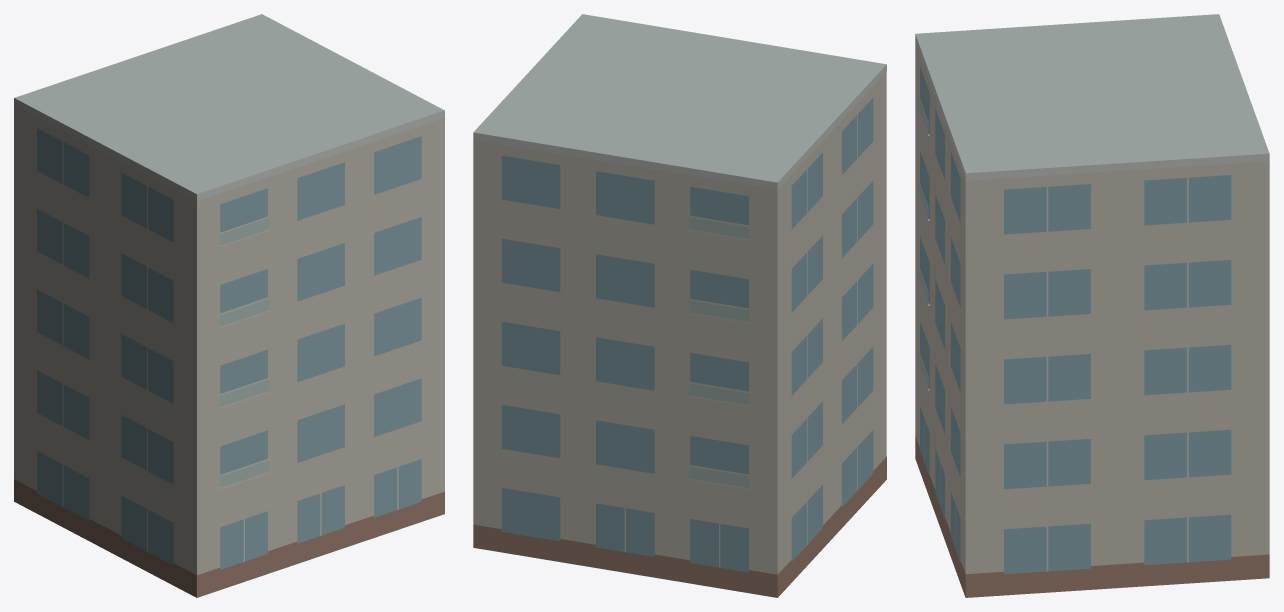
Rendered from survey-upis-32939246.glb.
3 views of the same model, side by side, from view 1: azimuth 30°, elevation 25°; view 2: azimuth 150°, elevation 25°; view 3: azimuth 270°, elevation 25° (orthographic). The views are drawn at different scales.
Visible parts, largest first — view 1: survey-upis-32939246.tmp; view 2: survey-upis-32939246.tmp; view 3: survey-upis-32939246.tmp.
Part boxes in pixels (bbox=[...]): survey-upis-32939246.tmp: bbox=[14, 14, 444, 597]; survey-upis-32939246.tmp: bbox=[473, 14, 886, 597]; survey-upis-32939246.tmp: bbox=[915, 14, 1269, 597].
Size of the model in its own units: 11.19 by 13.9 by 10.52.
